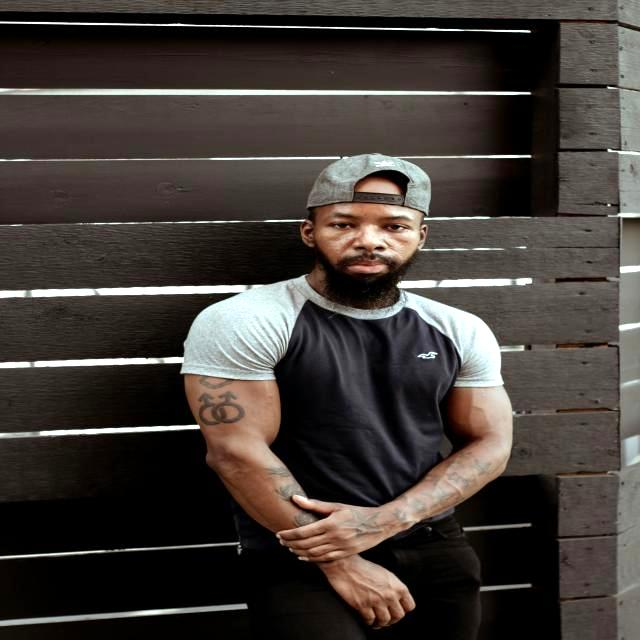no_hard_hat: (307, 153, 431, 215)
person: (163, 143, 520, 640)
